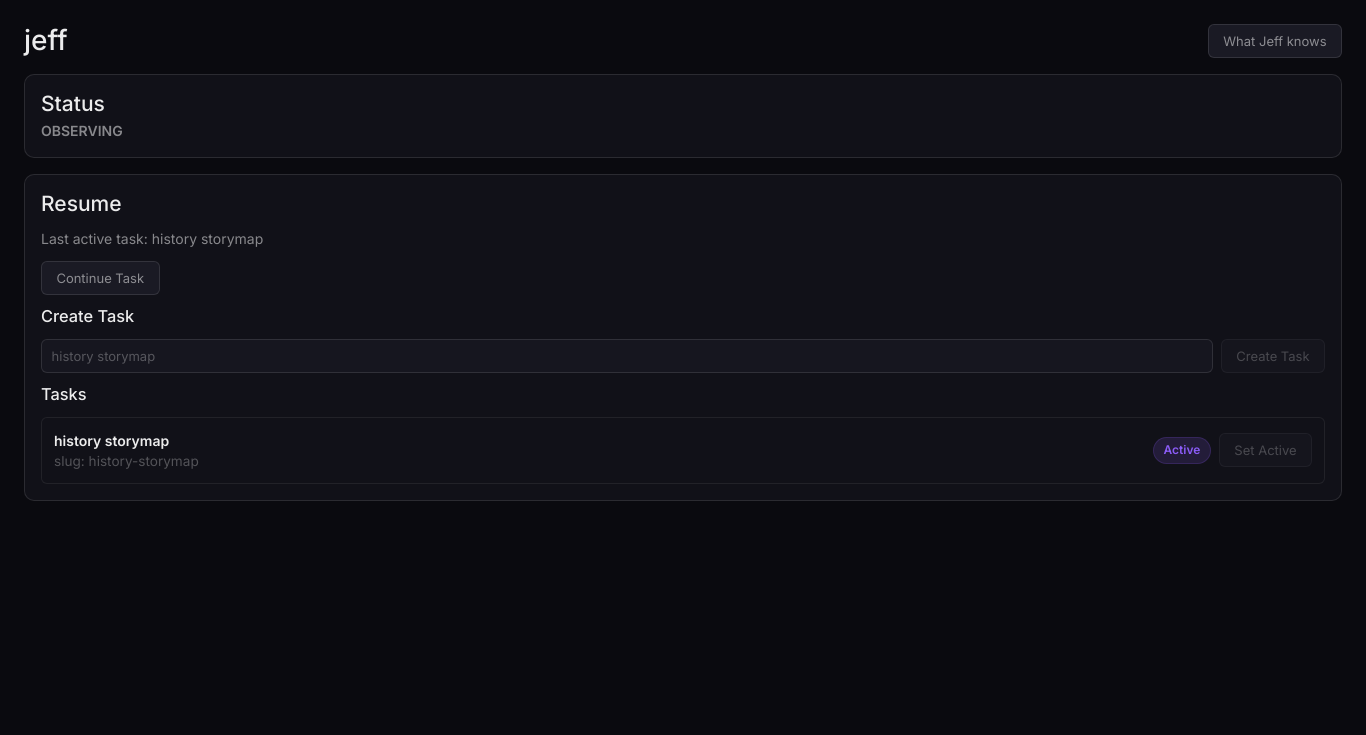
it: App › routes accepted suggestions into revision proposals and bounded subtasks
The image size is (1366, 735).
Expected: the element with test id "home-resume-screen" is shown, [24, 174, 1342, 501]
Click the button with test id "continue-task-button" at (100, 278), box [41, 261, 160, 295]
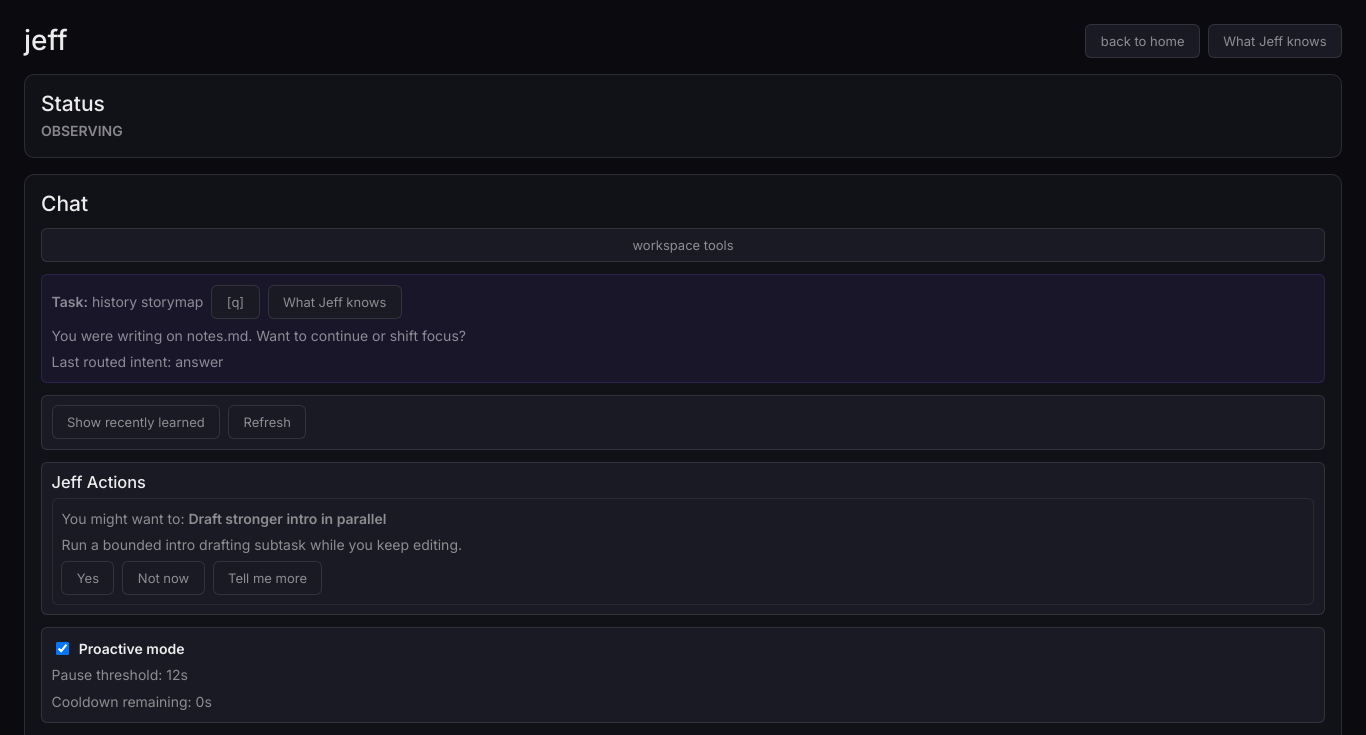
Click the button with test id "toggle-full-workspace" at (683, 245), box [41, 228, 1325, 262]
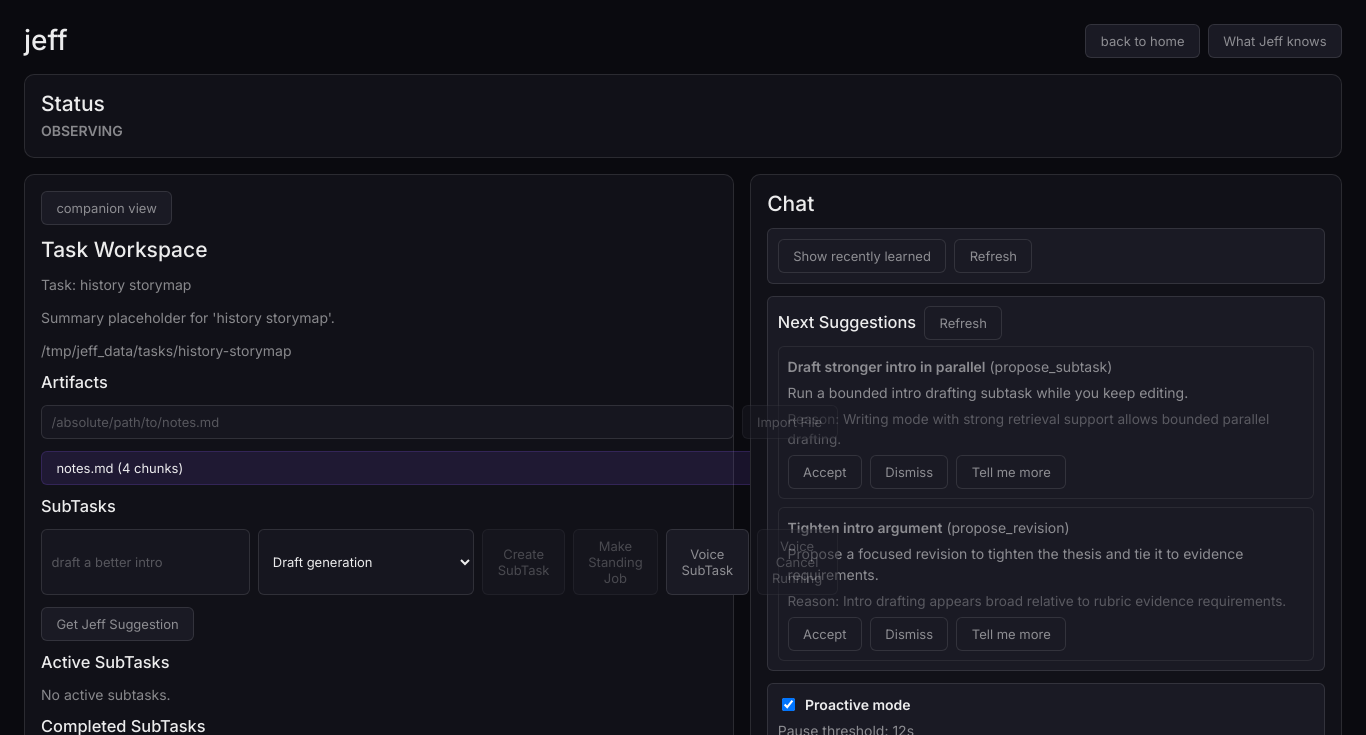
Click the button with test id "suggestion-accept-1" at (825, 634), box [788, 617, 862, 651]
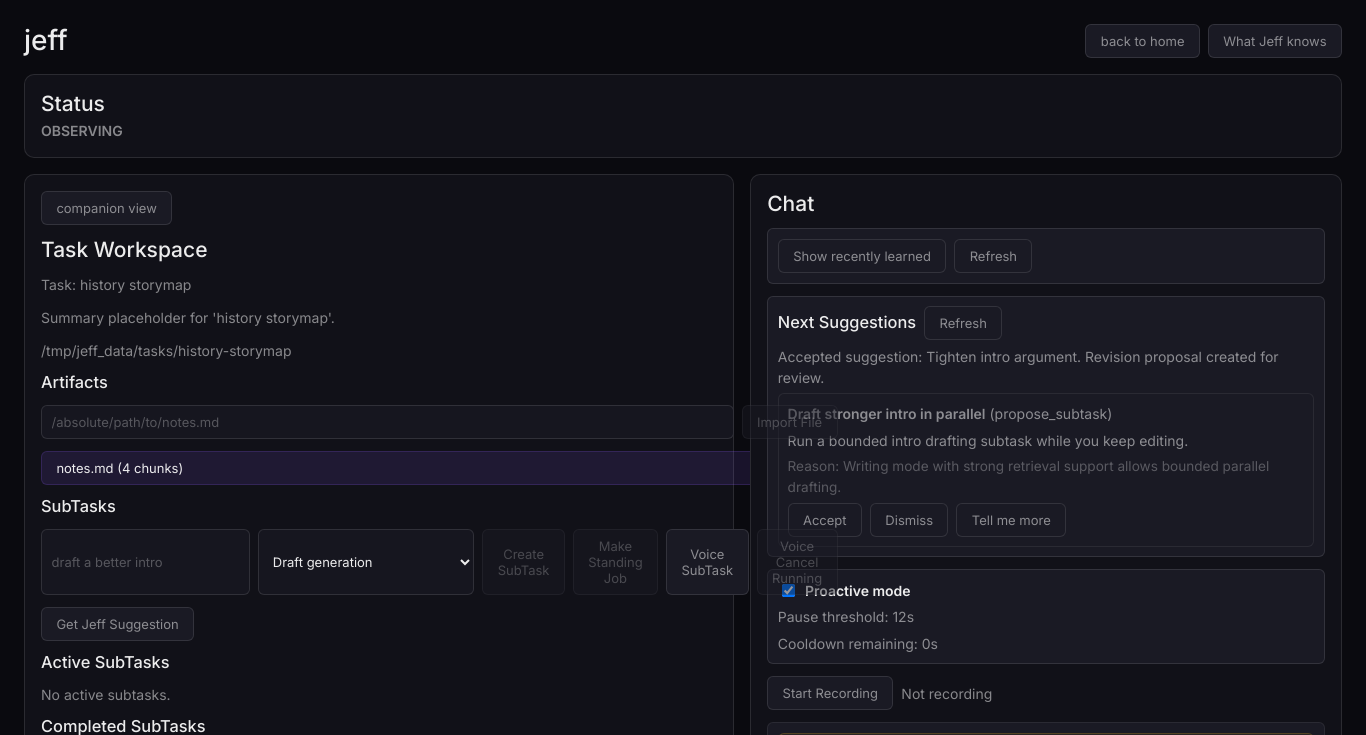
Result: the text with test id "suggestion-action-message" shows "Revision proposal created" at [778, 348, 1279, 386]
Click the button with test id "suggestion-accept-2" at (825, 520), box [788, 503, 862, 537]
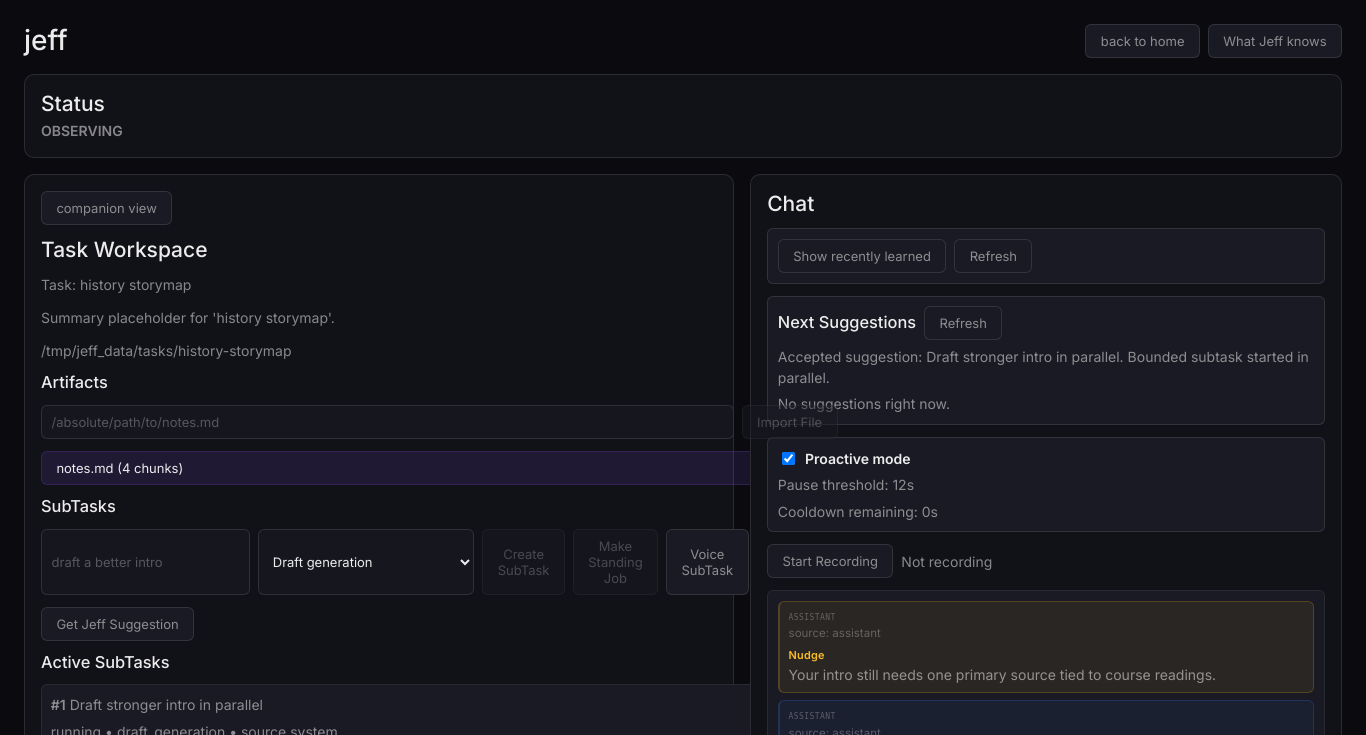
Result: the list with test id "active-subtasks-list" shows "Draft stronger intro in parallel" at [70, 696, 263, 713]
Result: the text with test id "suggestion-action-message" shows "subtask started" at [778, 348, 1309, 386]
